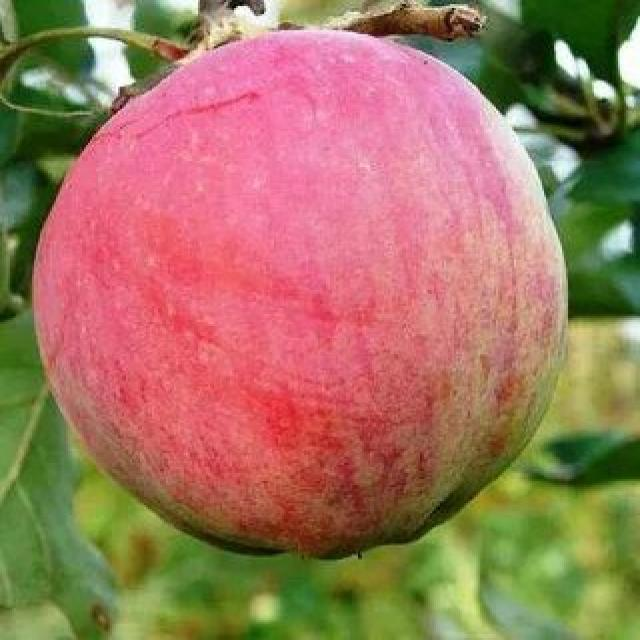Fresh Apple: (20, 22, 562, 556)
